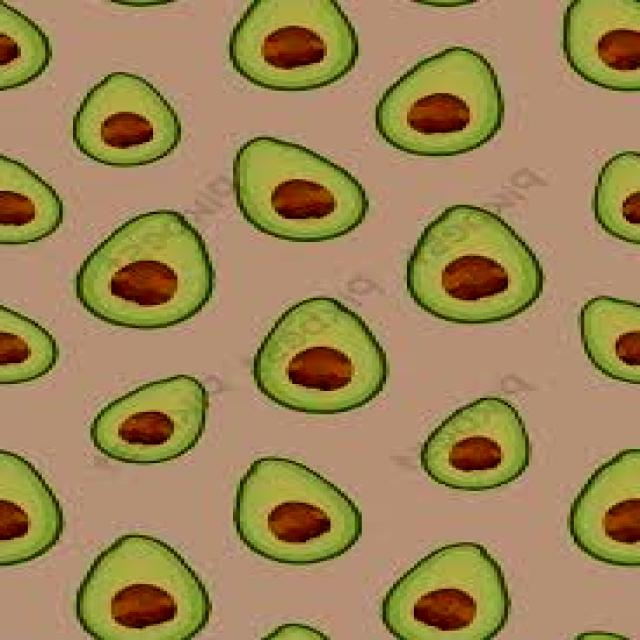onion: (24, 515, 222, 640), (48, 190, 212, 340), (389, 180, 544, 335), (198, 434, 366, 566), (367, 33, 531, 167), (235, 278, 375, 433), (408, 363, 556, 499), (222, 120, 368, 248), (80, 363, 224, 474), (544, 413, 640, 573), (374, 529, 514, 638), (63, 64, 194, 173), (222, 0, 371, 90), (0, 424, 69, 564), (0, 127, 55, 279), (565, 0, 640, 107), (577, 268, 640, 391), (0, 291, 74, 391), (593, 103, 640, 241), (0, 0, 48, 89)
